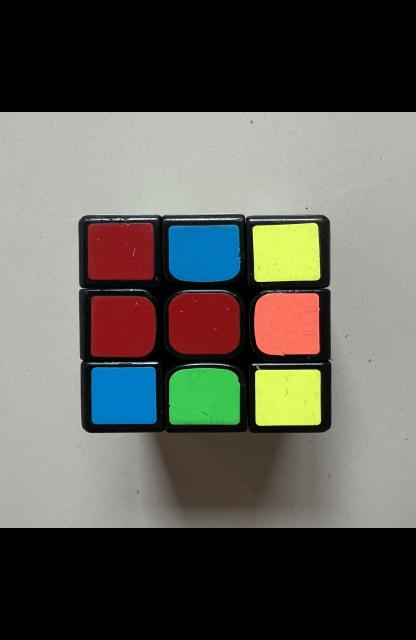Blue: (167, 225, 239, 282), (90, 367, 156, 424)
Green: (168, 368, 239, 425)
Orange: (253, 293, 319, 356)
Red: (167, 293, 239, 355), (89, 296, 156, 357), (87, 222, 153, 280)
Yellow: (252, 222, 319, 282), (254, 370, 320, 426)
